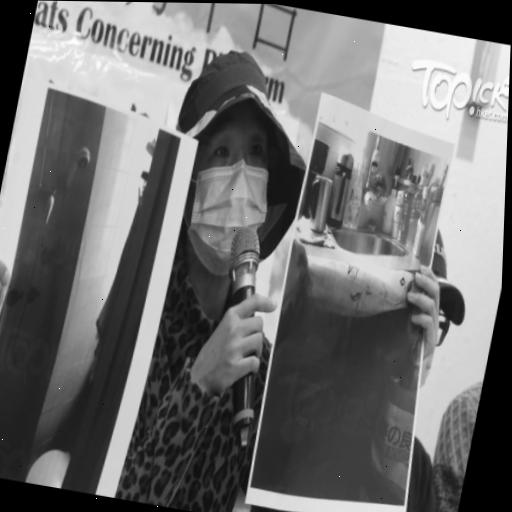mask: (147, 33, 319, 303)
